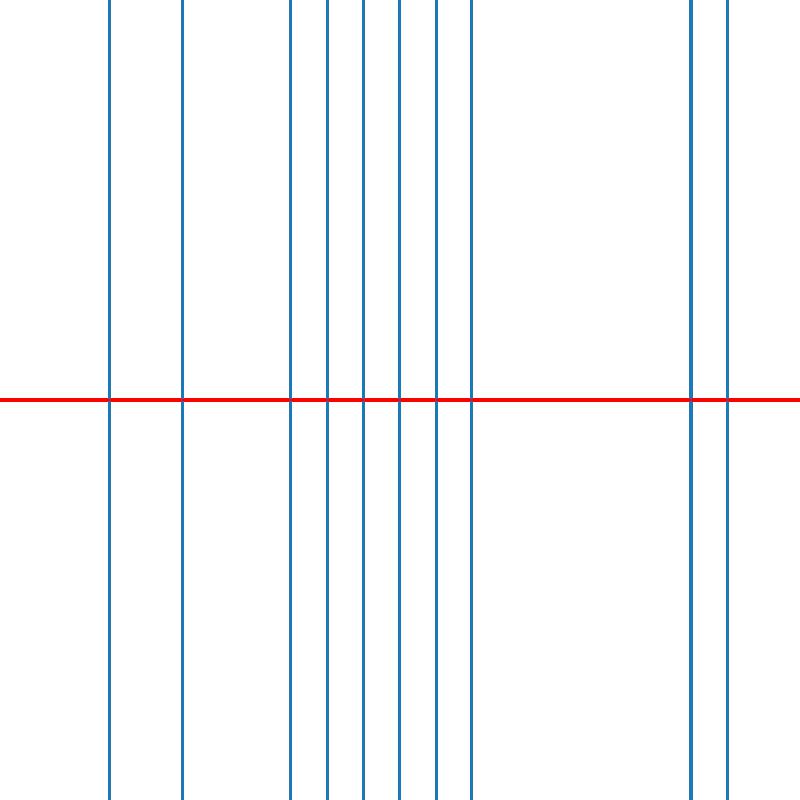root: (432, 396, 440, 404), (287, 396, 294, 404), (469, 396, 476, 404), (360, 396, 367, 404), (687, 396, 694, 404), (396, 396, 403, 404), (178, 396, 185, 404), (323, 396, 330, 404), (105, 396, 112, 404), (723, 396, 730, 404)
